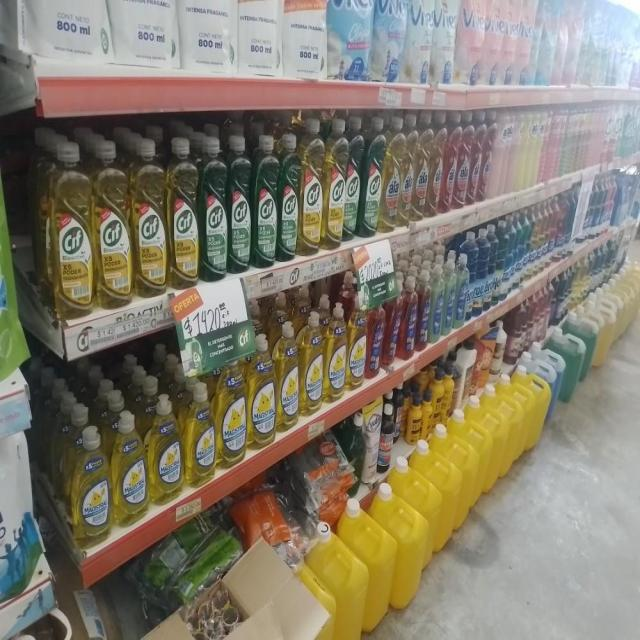ala_conc_amarillo: (384, 116, 402, 231), (415, 114, 430, 221), (430, 113, 444, 217), (401, 116, 414, 226)
ala_conc_rojo: (444, 113, 458, 213), (458, 113, 472, 210), (472, 112, 482, 204)
cif_conc_bot_amarilla: (45, 138, 92, 318), (94, 136, 131, 309), (132, 136, 166, 298), (168, 135, 198, 290), (300, 117, 324, 257), (324, 116, 346, 249)
cif_conc_botella_verde: (200, 134, 227, 282), (253, 133, 278, 269), (228, 133, 252, 274), (278, 131, 300, 262), (363, 116, 383, 237), (346, 117, 362, 241)
magistral_con_amarillo: (71, 424, 110, 547), (112, 410, 147, 526), (149, 392, 183, 504), (216, 358, 246, 468), (185, 379, 215, 486), (248, 332, 275, 448), (276, 320, 299, 432), (301, 310, 323, 416), (325, 301, 346, 402), (347, 287, 366, 391)
